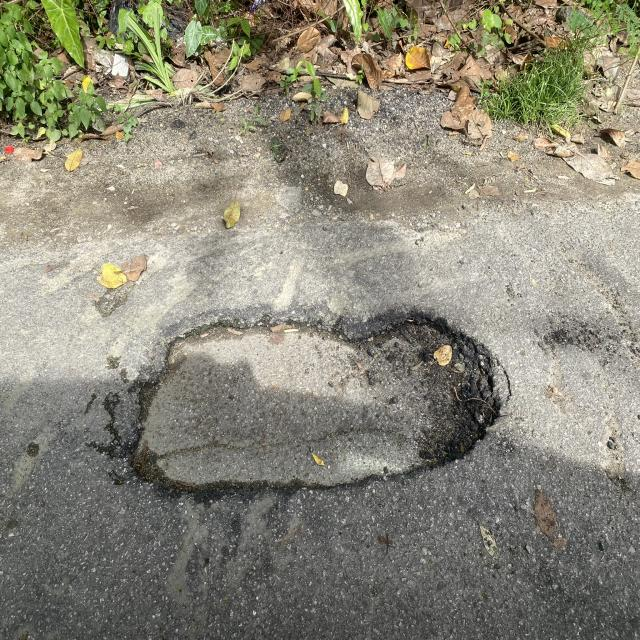Pothole: (114, 285, 541, 513)
